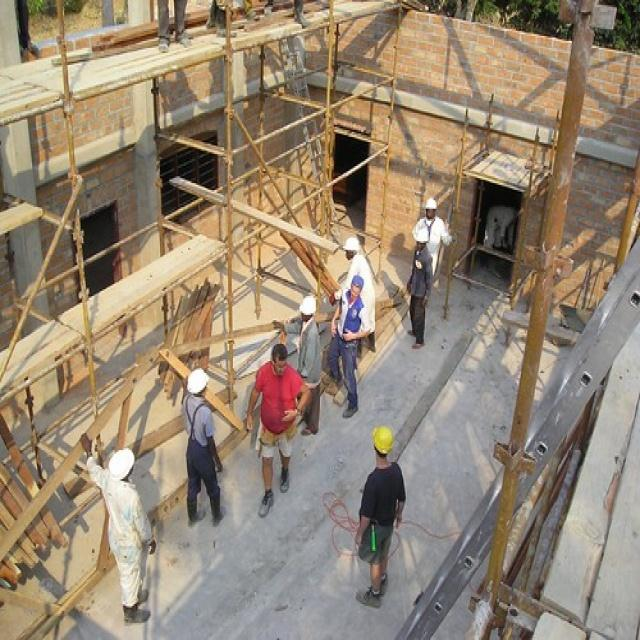helmet: (110, 589, 136, 640), (371, 556, 391, 607), (187, 487, 209, 532), (412, 285, 430, 324), (340, 306, 363, 334), (297, 388, 315, 420)
